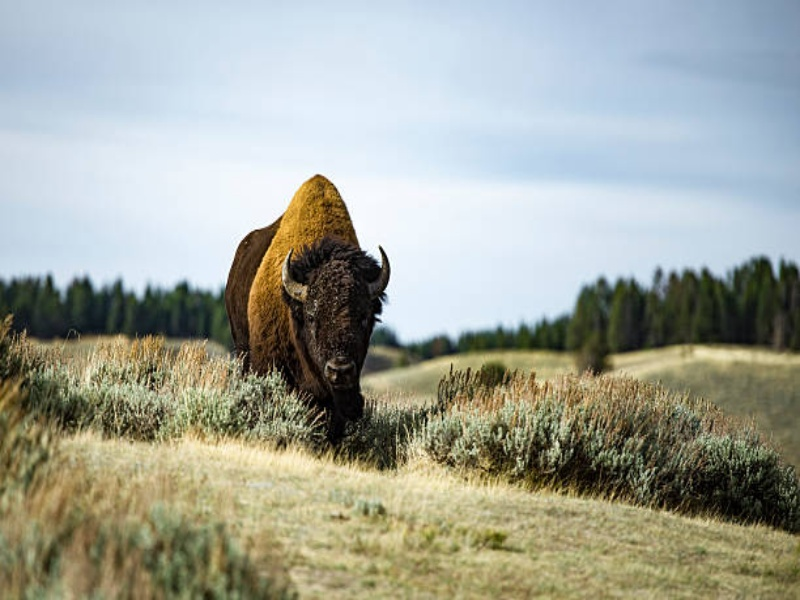buffalo: (217, 166, 412, 467)
